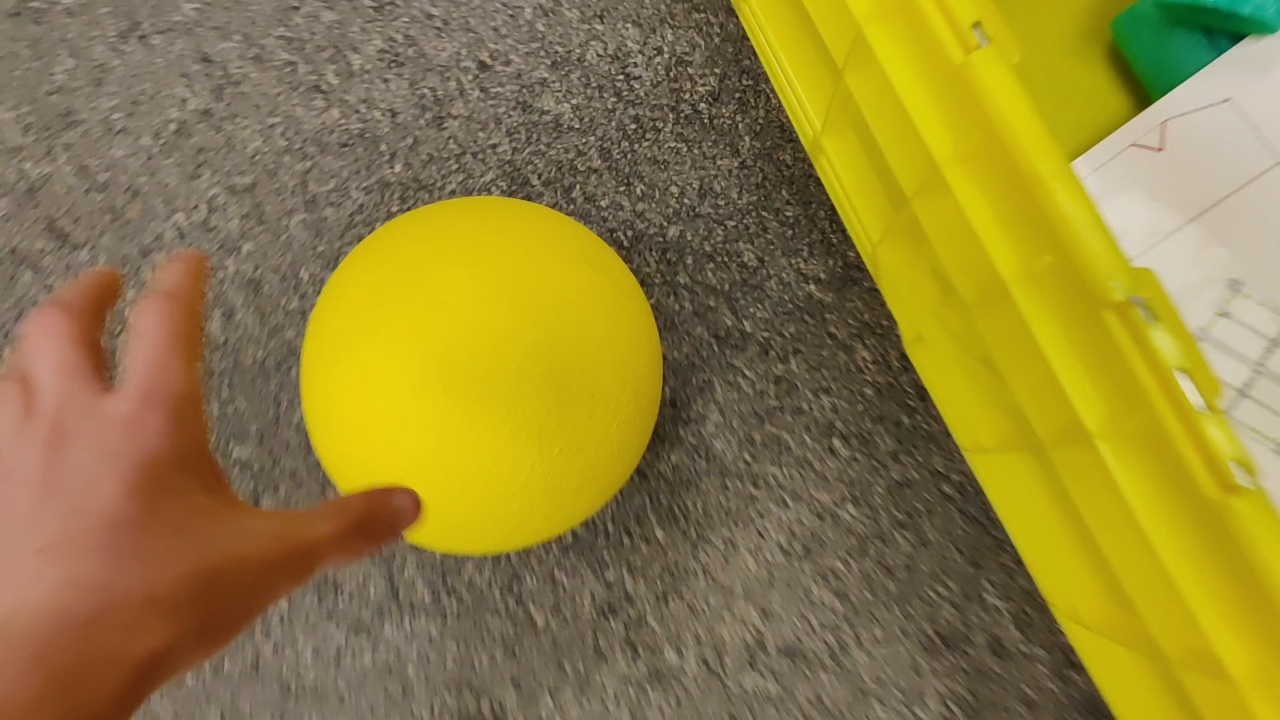Ball: (301, 196, 665, 559)
